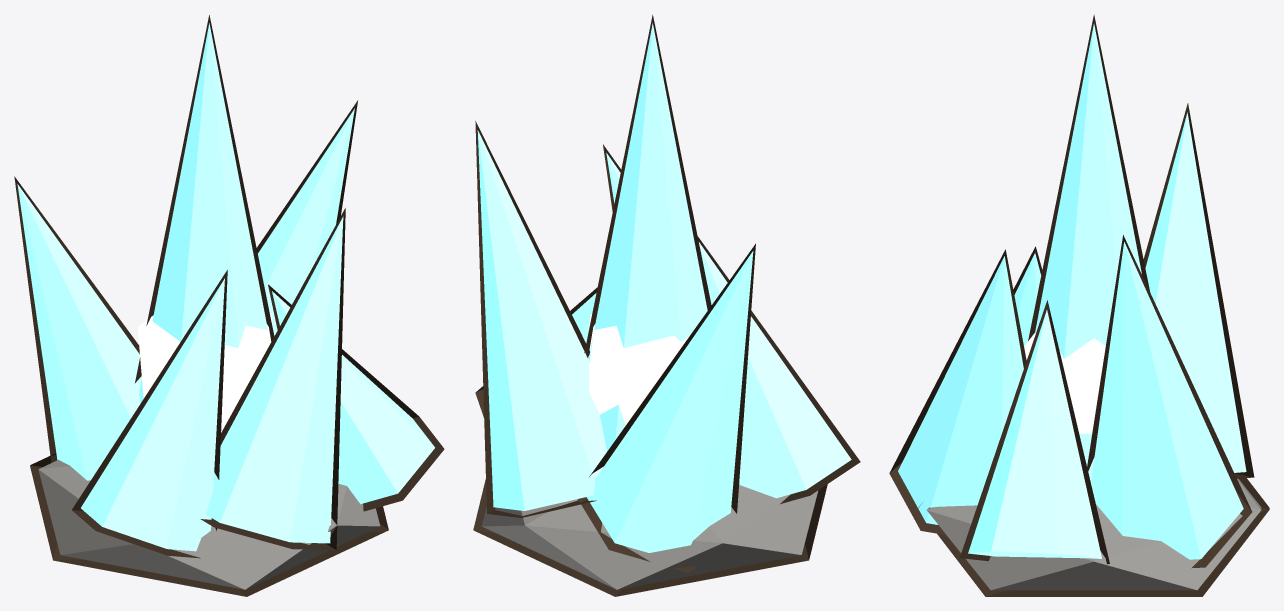
Rendered from crystal_blue.fbx.
3 views of the same model, side by side, from view 1: azimuth 30°, elevation 25°; view 2: azimuth 150°, elevation 25°; view 3: azimuth 270°, elevation 25° (orthographic). The views are drawn at different scales.
Parts seen in each view (by area): view 1: Shard3, Shard4, Shard0, Shard2, Base, Shard5, Shard1, Core Glow; view 2: Shard1, Shard2, Shard0, Base, Shard4, Core Glow, Shard5, Shard3; view 3: Shard1, Shard5, Shard0, Shard3, Shard2, Base, Core Glow, Shard4.
Boxes of the visible parts, left/top/right/bottom form: Shard3: left=200, top=208, right=345, bottom=550; Shard4: left=72, top=270, right=227, bottom=558; Shard0: left=135, top=15, right=274, bottom=403; Shard2: left=14, top=176, right=141, bottom=480; Base: left=30, top=453, right=388, bottom=596; Shard5: left=268, top=284, right=444, bottom=511; Shard1: left=256, top=100, right=357, bottom=335; Core Glow: left=137, top=314, right=272, bottom=432; Shard1: left=475, top=121, right=606, bottom=517; Shard2: left=578, top=243, right=755, bottom=572; Shard0: left=584, top=14, right=711, bottom=451; Base: left=473, top=479, right=827, bottom=596; Shard4: left=697, top=236, right=860, bottom=503; Core Glow: left=588, top=314, right=689, bottom=425; Shard5: left=475, top=287, right=597, bottom=418; Shard3: left=603, top=144, right=621, bottom=211; Shard1: left=1087, top=235, right=1252, bottom=568; Shard5: left=960, top=300, right=1109, bottom=564; Shard0: left=1028, top=14, right=1149, bottom=497; Shard3: left=889, top=249, right=1026, bottom=534; Shard2: left=1143, top=103, right=1254, bottom=478; Base: left=918, top=472, right=1269, bottom=596; Core Glow: left=1024, top=333, right=1105, bottom=433; Shard4: left=1013, top=246, right=1042, bottom=346.
Size of the model in its own units: 0.1523 by 0.2212 by 0.1383.
